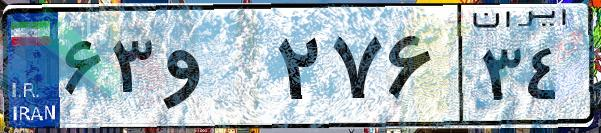2: (270, 28, 330, 110)
3: (475, 38, 525, 113), (110, 28, 158, 98)
4: (525, 38, 570, 115)
6: (385, 28, 445, 110), (57, 26, 110, 100)
7: (330, 28, 385, 110)
و: (158, 20, 270, 120)
